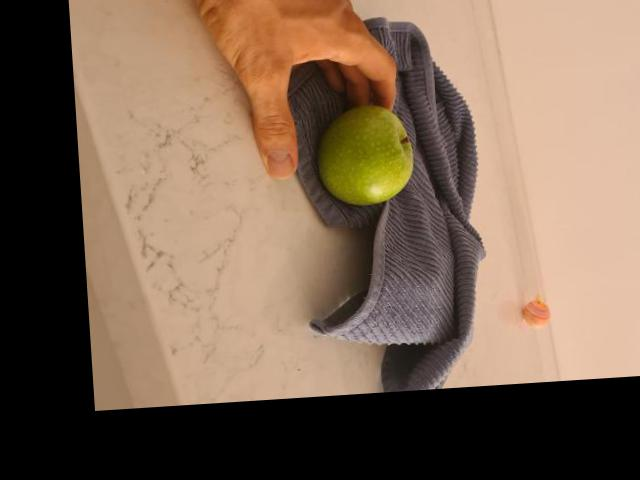apple: (310, 104, 416, 201)
